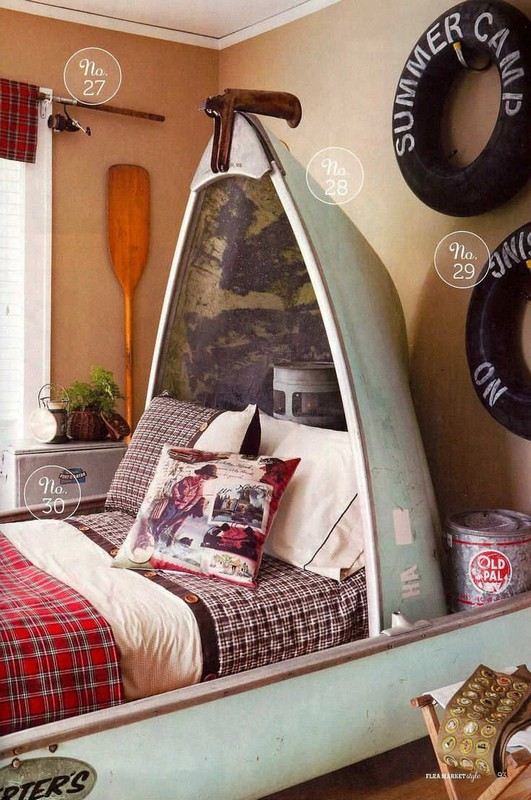bed: (12, 74, 456, 738)
